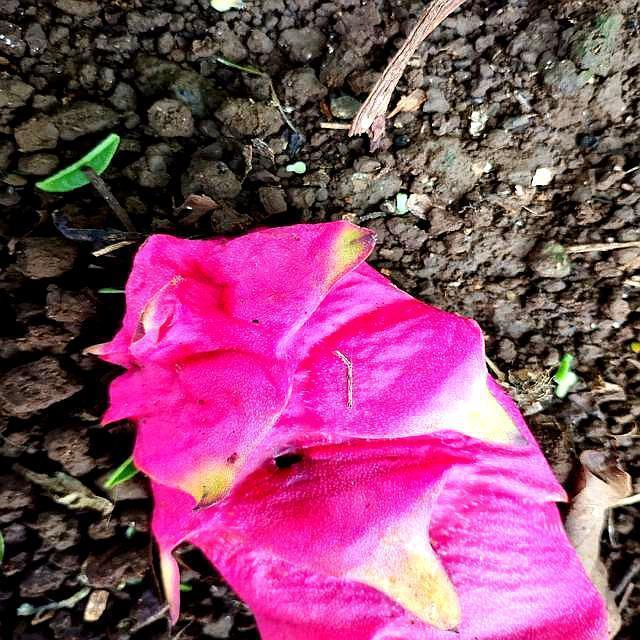Biodegradable: (111, 231, 617, 640)
